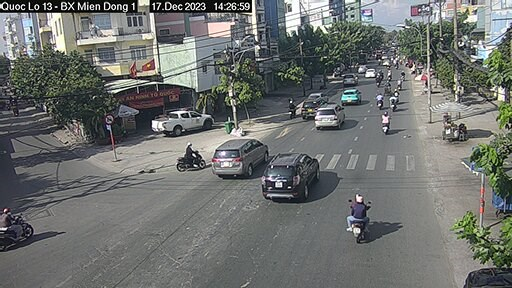car: (264, 155, 320, 195), (213, 138, 267, 177), (148, 110, 214, 136), (313, 106, 348, 131), (337, 87, 362, 107), (303, 94, 323, 118), (340, 71, 361, 89), (364, 69, 376, 77)
motorbike: (2, 206, 40, 248), (176, 140, 208, 173), (348, 194, 367, 246), (380, 111, 394, 134)
